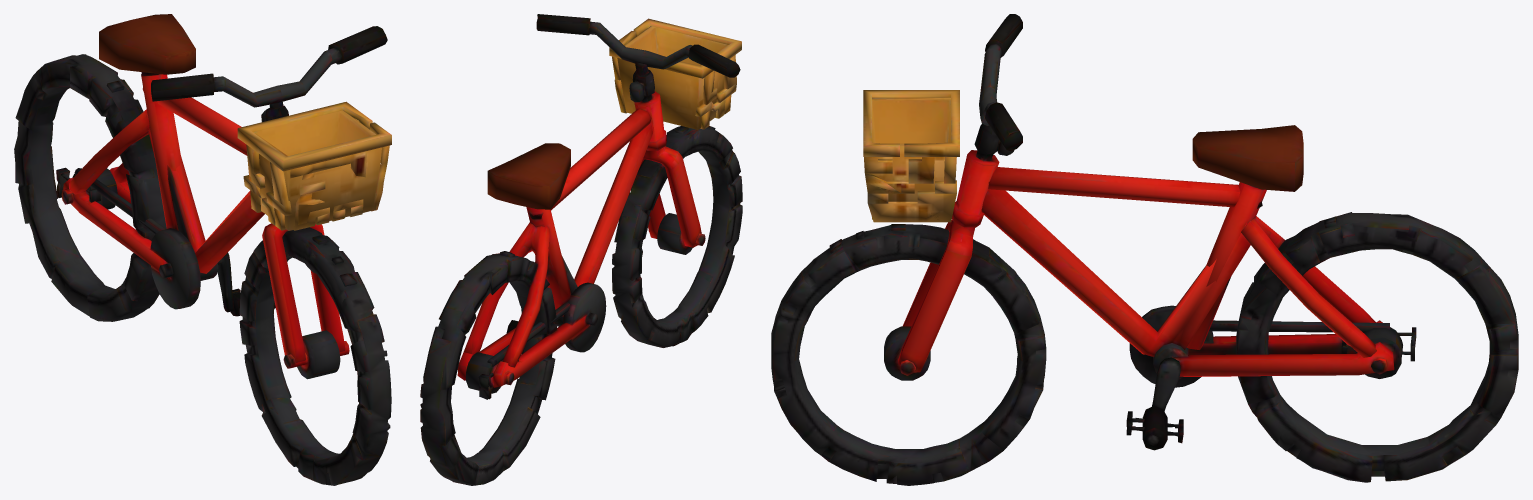
File: bicycle.glb
3 views of the same model, side by side, from view 1: azimuth 30°, elevation 25°; view 2: azimuth 150°, elevation 25°; view 3: azimuth 270°, elevation 25° (orthographic). The views are drawn at different scales.
Parts seen in each view (by area): view 1: tripo_node_b111c556-20bf-485d-b6cc-86092bb0d728; view 2: tripo_node_b111c556-20bf-485d-b6cc-86092bb0d728; view 3: tripo_node_b111c556-20bf-485d-b6cc-86092bb0d728.
Boxes of the visible parts, x1,y1,x2,y2 form: tripo_node_b111c556-20bf-485d-b6cc-86092bb0d728: [14, 14, 391, 485]; tripo_node_b111c556-20bf-485d-b6cc-86092bb0d728: [420, 14, 742, 485]; tripo_node_b111c556-20bf-485d-b6cc-86092bb0d728: [771, 14, 1518, 485].
Size of the model in its own units: 0.3848 by 0.6035 by 0.998.
Materials: 1 (1 with a texture image).
